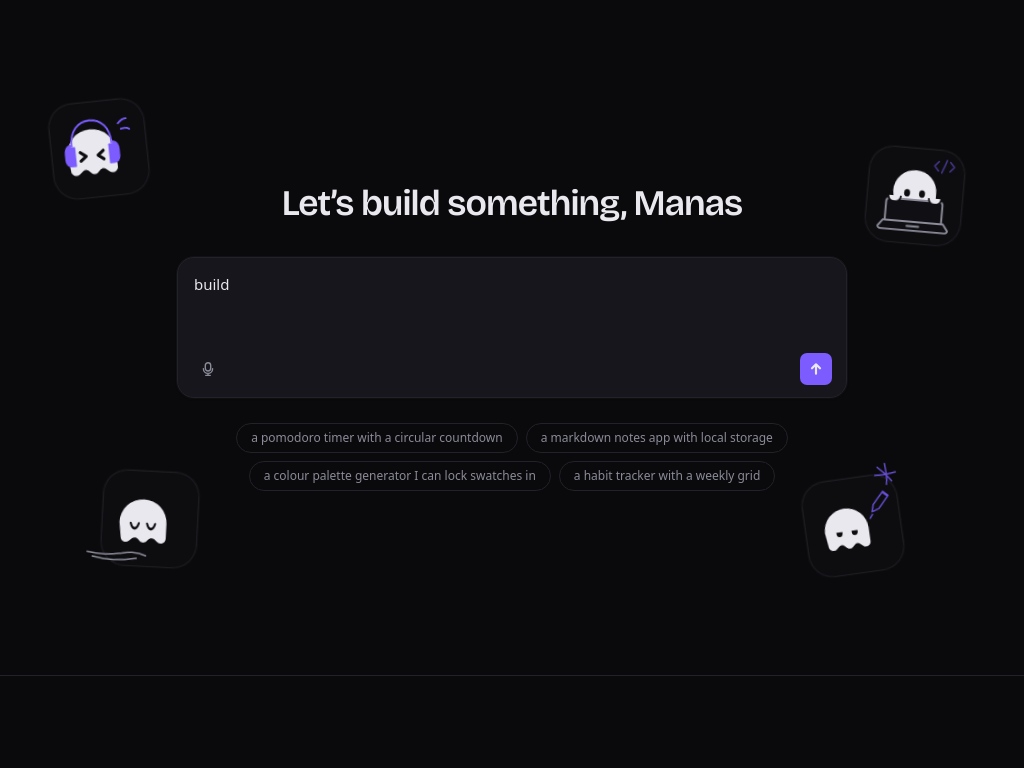
Test: the dashboard hero › shows interim dictation separately and appends finalized speech
What coordinates should you click on to do the following:
click the button named "Start dictation"
I would click on:
 (208, 369)
Its box is [192,353,224,385].
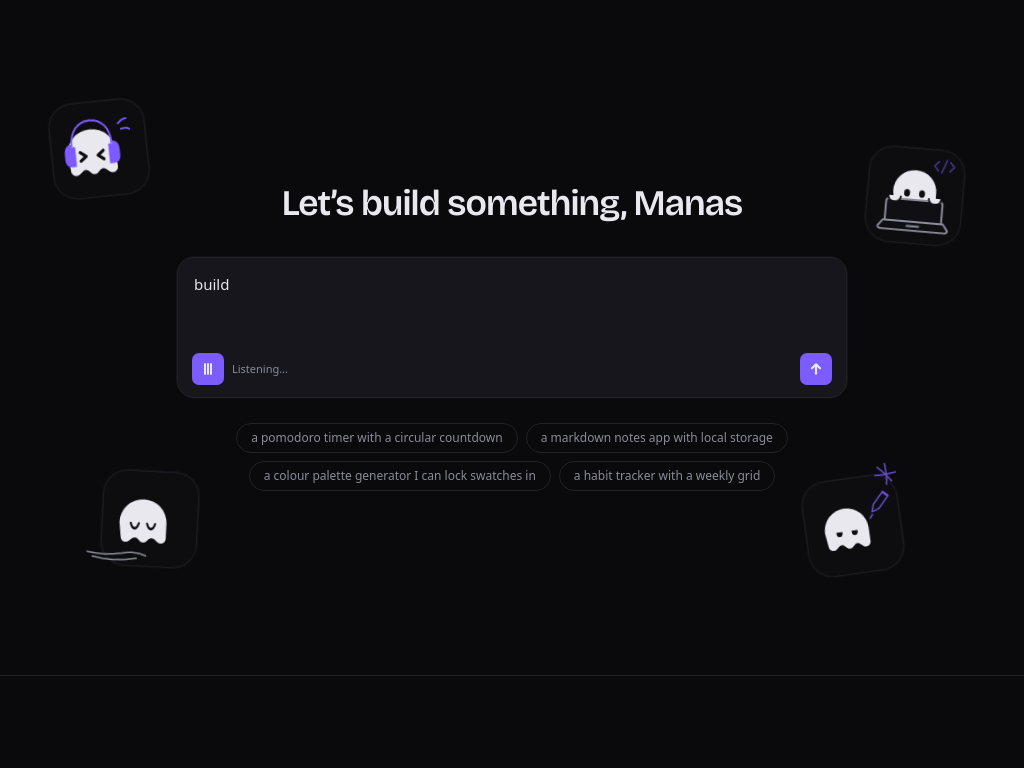
Expected: the text box named "Describe the app you want" holds "build", [178,258,846,353]
Now the text "a habit" is shown, box [232,361,288,377]
